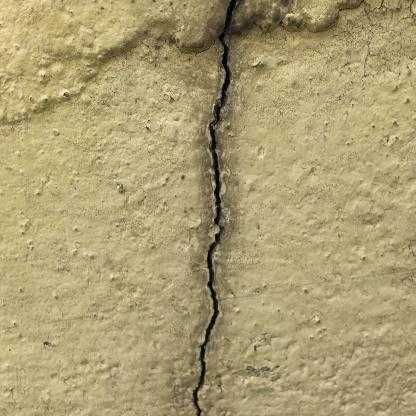crack: (193, 0, 237, 415)
